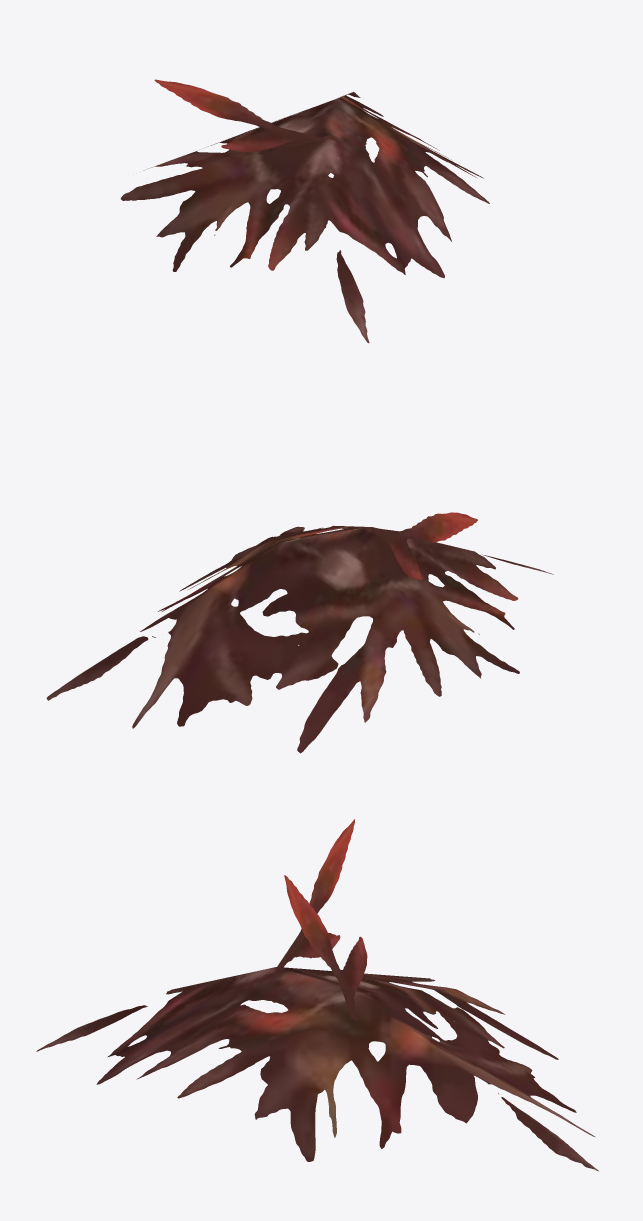
3 views of the same model, one above another, from view 1: azimuth 30°, elevation 25°; view 2: azimuth 150°, elevation 25°; view 3: azimuth 270°, elevation 25° (orthographic). The views are drawn at different scales.
Bounding box in the file's own units: 0.9068 × 0.4789 × 1.07.
Materials: 1 (1 with a texture image).
